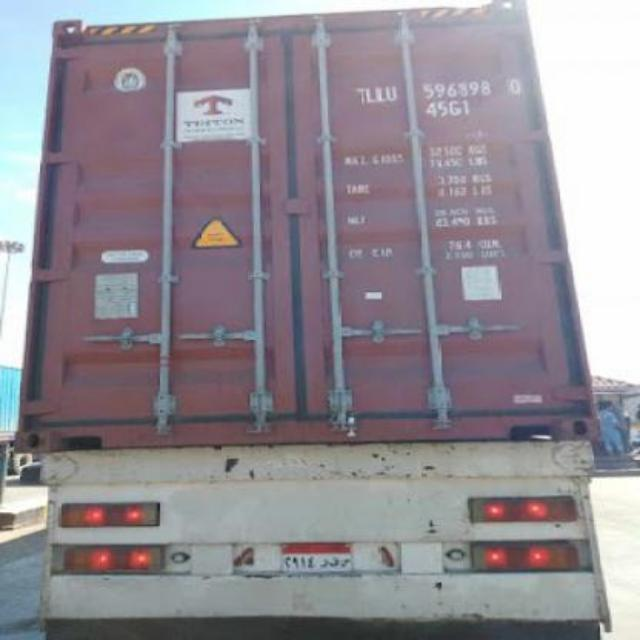0: (506, 78, 524, 96)
5: (418, 84, 434, 100)
6: (448, 83, 458, 99)
8: (456, 81, 468, 99), (480, 80, 492, 96)
9: (470, 81, 480, 97), (434, 84, 446, 96)
L: (374, 85, 386, 105), (364, 87, 376, 105)
T: (354, 87, 366, 105)
U: (384, 86, 400, 102)
